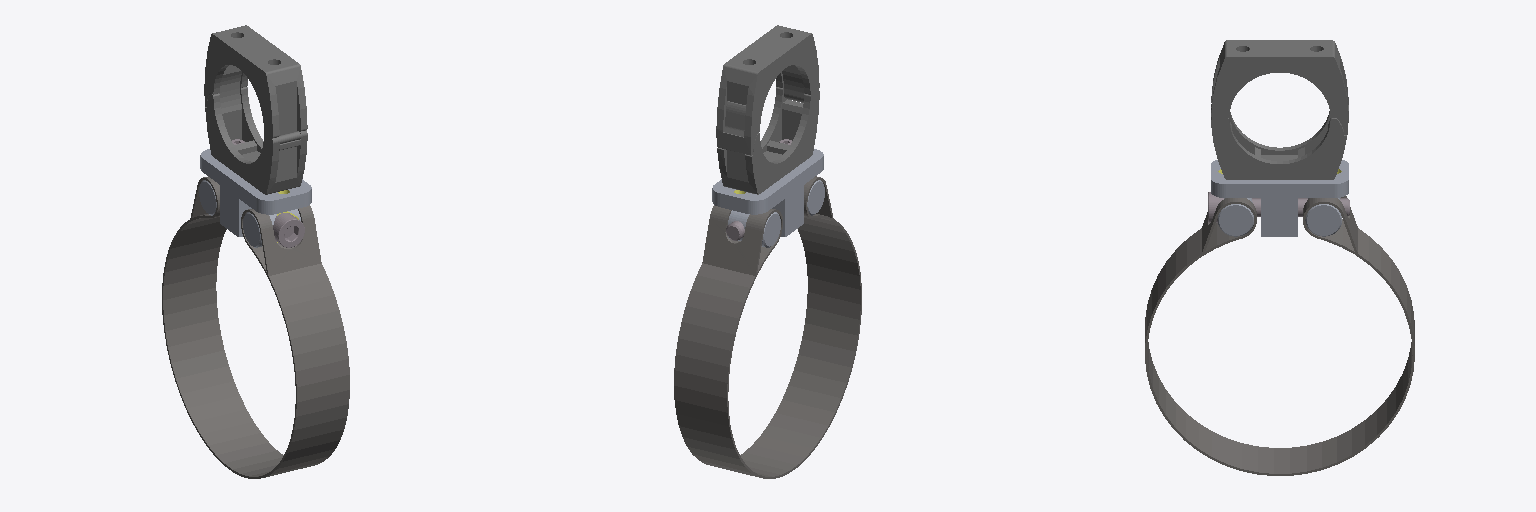
Rendered from mounting_clamp_big_TR_911_965_086_Z0.obj.
3 renders of one model, left to right at view 1: azimuth 30°, elevation 25°; view 2: azimuth 150°, elevation 25°; view 3: azimuth 270°, elevation 25°, orthographic.
Bounding box in the file's own units: 0.02 × 0.1488 × 0.0878.